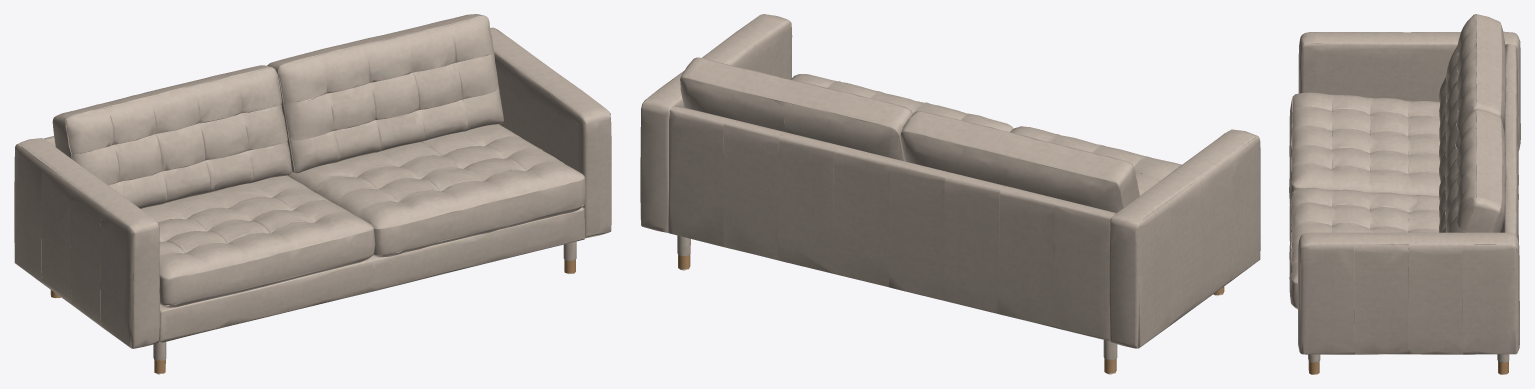
File: landskrona_sofa_3_osobowa_29435337.glb
3 renders of one model, left to right at view 1: azimuth 30°, elevation 25°; view 2: azimuth 150°, elevation 25°; view 3: azimuth 270°, elevation 25°, orthographic. The views are drawn at different scales.
Parts seen in each view (by area): view 1: landskrona_sofa_3_osobowa_29435337; view 2: landskrona_sofa_3_osobowa_29435337; view 3: landskrona_sofa_3_osobowa_29435337.
Part boxes in pixels (x1=…): landskrona_sofa_3_osobowa_29435337: x1=14, y1=14, x2=611, y2=374; landskrona_sofa_3_osobowa_29435337: x1=640, y1=14, x2=1260, y2=374; landskrona_sofa_3_osobowa_29435337: x1=1289, y1=14, x2=1520, y2=374.
Size of the model in its own units: 2.06 by 0.7805 by 0.9309.
Materials: 1 (1 with a texture image).
